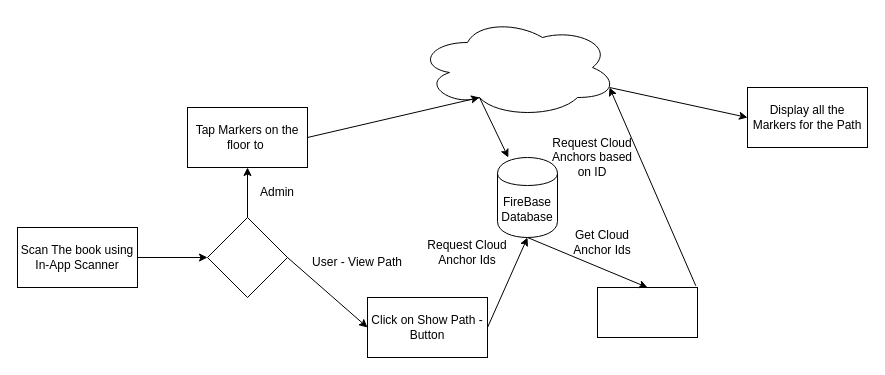
The diagram is 885 pixels wide and 375 high, and some of its shapes have lost their labels. The shapes that lost their labels are listed below. From the top down, each one's box as (x1, y1, x2, y2) in pixels, then its label:
(416, 16, 618, 118): Cloud - Stores Anchors
(206, 216, 288, 298): Add Path for shelf?
(596, 286, 698, 338): On Getting all Ids of path
